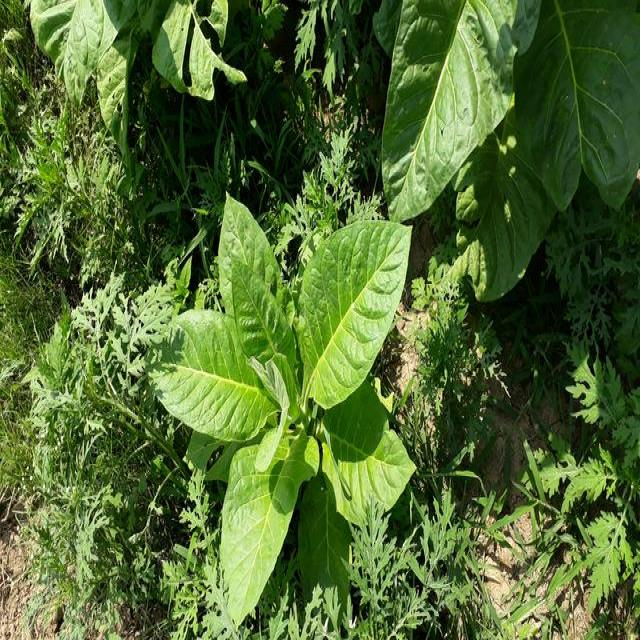crop: (176, 197, 406, 608), (385, 0, 640, 281), (28, 0, 253, 104)
